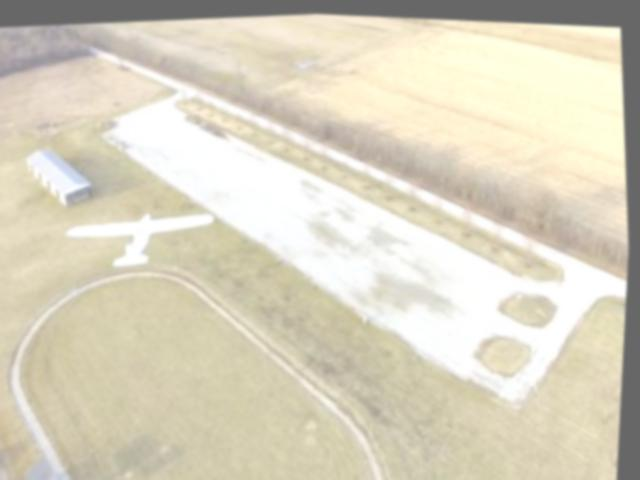uav: (61, 186, 236, 283)
